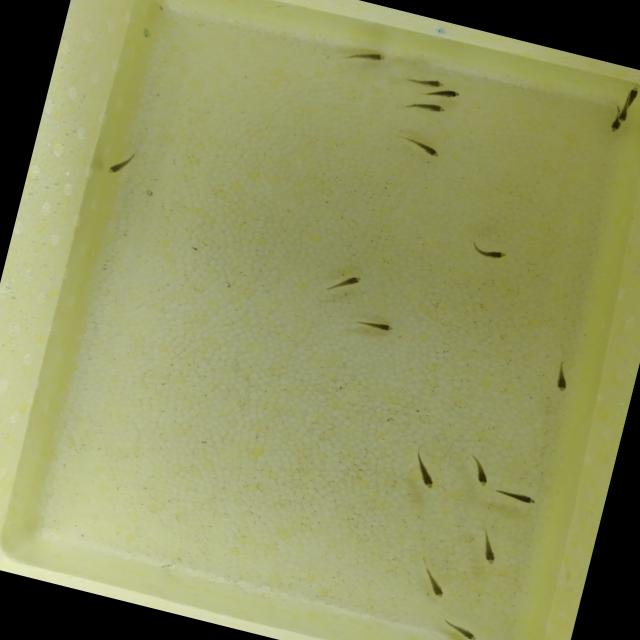fingerling: (408, 558, 457, 603), (391, 126, 452, 162), (315, 263, 366, 304), (404, 441, 444, 492), (468, 525, 509, 569), (460, 235, 516, 267), (542, 354, 582, 398), (102, 143, 143, 183), (339, 41, 391, 72), (458, 451, 498, 491), (395, 92, 448, 121), (349, 312, 403, 339), (435, 614, 485, 640), (492, 483, 540, 509), (410, 71, 445, 92), (623, 82, 640, 106), (612, 106, 632, 124), (441, 86, 463, 102), (604, 121, 624, 137)
